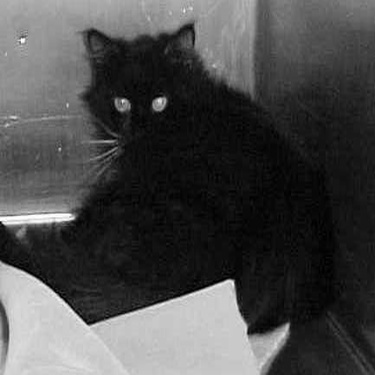cat: (59, 12, 346, 337)
